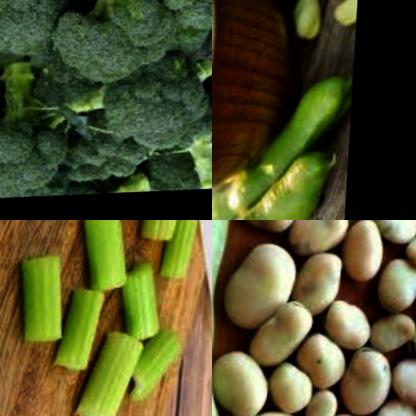beans: (223, 220, 416, 416), (212, 79, 353, 220), (212, 220, 242, 416), (279, 0, 320, 53), (331, 0, 360, 64)
broccoli: (0, 0, 212, 204)
celery: (69, 330, 148, 416), (53, 285, 113, 385), (19, 250, 71, 355), (132, 331, 194, 410), (75, 220, 135, 299), (119, 264, 168, 352), (158, 220, 201, 291), (138, 220, 191, 252)
